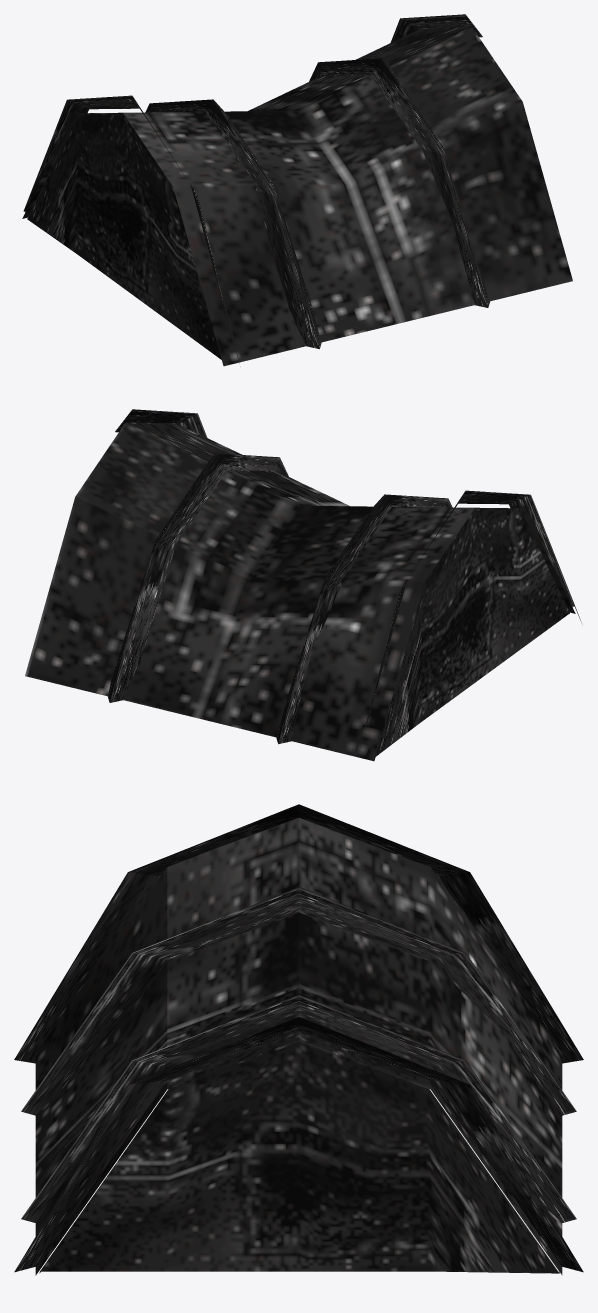
Rendered from Dach_Dachpappe_1419.glb.
3 renders of one model, top to bottom at view 1: azimuth 30°, elevation 25°; view 2: azimuth 150°, elevation 25°; view 3: azimuth 270°, elevation 25°, orthographic. The views are drawn at different scales.
Parts seen in each view (by area): view 1: pPlaneShape146, pPlaneShape149, pPlaneShape147, pPlaneShape145, pPlaneShape148, pPlaneShape144; view 2: pPlaneShape146, pPlaneShape149, pPlaneShape145, pPlaneShape147, pPlaneShape148, pPlaneShape144; view 3: pPlaneShape146, pPlaneShape150, pPlaneShape147, pPlaneShape144, pPlaneShape148, pPlaneShape145.
Part boxes in pixels (bbox=[...]): pPlaneShape146: bbox=[22, 27, 572, 366]; pPlaneShape149: bbox=[27, 113, 221, 359]; pPlaneShape147: bbox=[145, 99, 321, 349]; pPlaneShape145: bbox=[309, 58, 489, 307]; pPlaneShape148: bbox=[23, 95, 239, 363]; pPlaneShape144: bbox=[390, 14, 482, 42]; pPlaneShape146: bbox=[25, 422, 575, 761]; pPlaneShape149: bbox=[375, 508, 569, 756]; pPlaneShape145: bbox=[108, 453, 288, 702]; pPlaneShape147: bbox=[276, 494, 452, 744]; pPlaneShape148: bbox=[358, 490, 581, 752]; pPlaneShape144: bbox=[115, 409, 207, 437]; pPlaneShape146: bbox=[35, 818, 562, 1275]; pPlaneShape150: bbox=[39, 1041, 559, 1273]; pPlaneShape147: bbox=[21, 887, 576, 1115]; pPlaneShape144: bbox=[14, 1017, 583, 1272]; pPlaneShape148: bbox=[14, 804, 583, 1063]; pPlaneShape145: bbox=[21, 994, 576, 1222].
Bounding box in the file's own units: 0.2772 × 0.1488 × 0.2839.
Materials: 7 (7 with a texture image).
